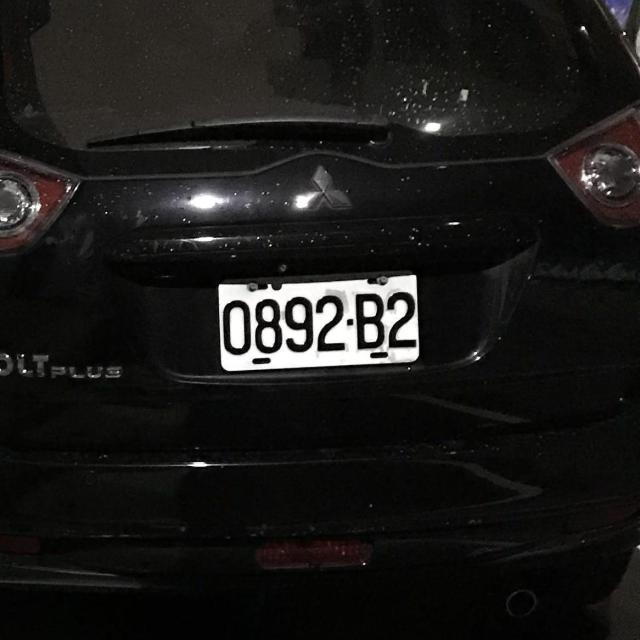W: (209, 255, 428, 393)
